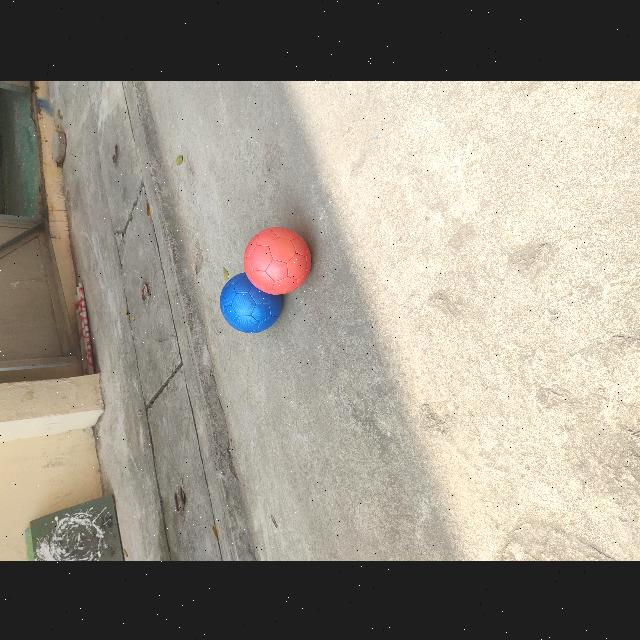B: (220, 272, 283, 332)
R: (244, 226, 311, 294)
